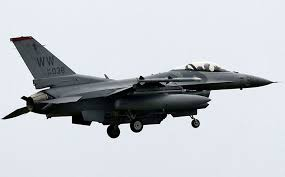fighter: (4, 34, 278, 140)
